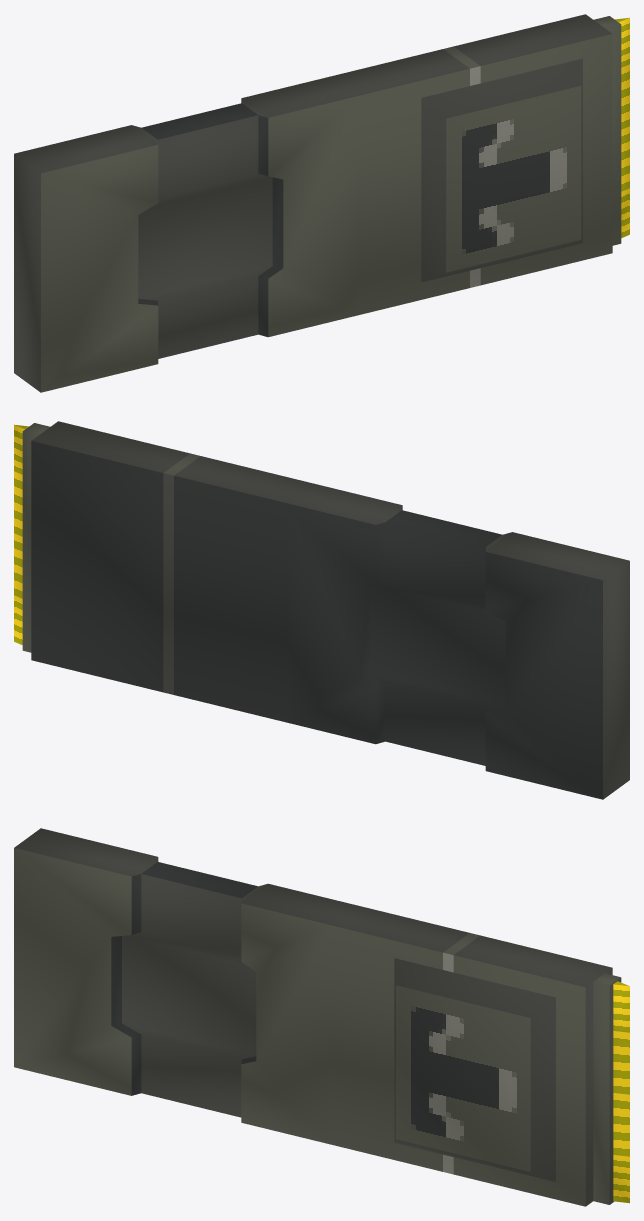
File: ssd.glb
3 views of the same model, one above another, from view 1: azimuth 30°, elevation 25°; view 2: azimuth 150°, elevation 25°; view 3: azimuth 330°, elevation 25° (orthographic).
Parts seen in each view (by area): view 1: Plane.002; view 2: Plane.002; view 3: Plane.002.
Boxes of the visible parts, x1=… form: Plane.002: x1=14, y1=14, x2=629, y2=392; Plane.002: x1=14, y1=421, x2=629, y2=799; Plane.002: x1=14, y1=828, x2=629, y2=1206.
Size of the model in its own units: 0.4743 by 0.165 by 0.0527.
Materials: 1 (1 with a texture image).
